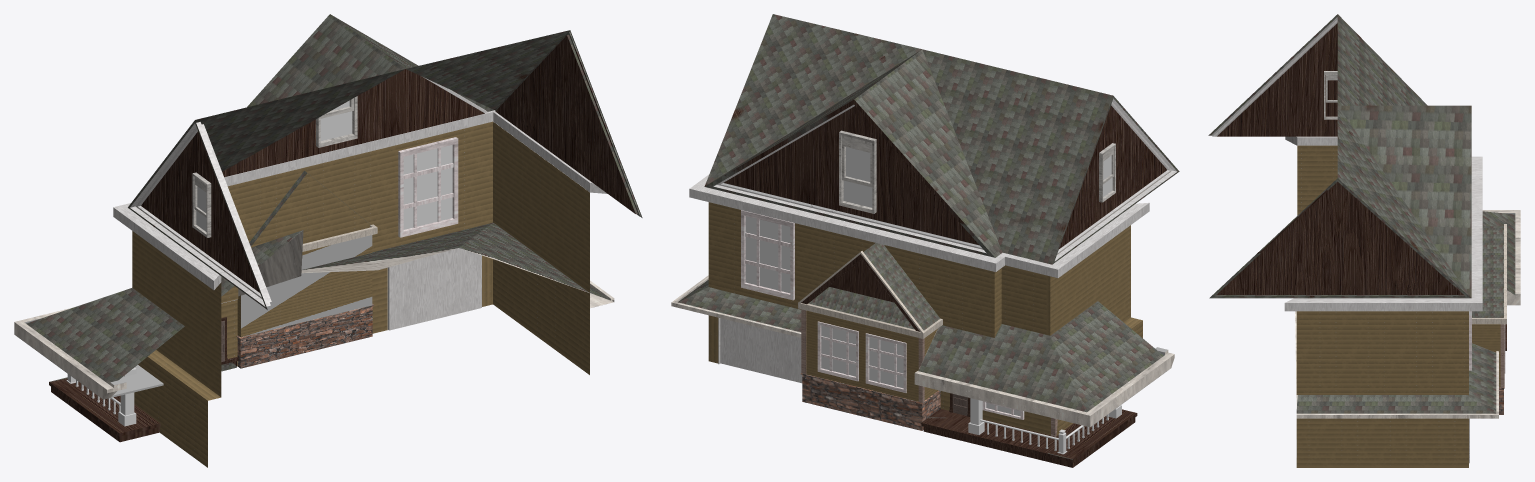
File: house.fbx
3 views of the same model, side by side, from view 1: azimuth 30°, elevation 25°; view 2: azimuth 150°, elevation 25°; view 3: azimuth 270°, elevation 25° (orthographic). The views are drawn at different scales.
Parts seen in each view (by area): view 1: Cube.003, Cube.007, Cube.016, Cube.006, Cube.008, Cube.011, Cube.010, Cube.002, Cube.004, Cube.012, Cube.005, Cube.009; view 2: Cube.003, Cube.006, Cube.016, Cube.007, Cube.008, Cube.005, Cube.011, Cube.010, Cube.002, Cube.004, Cube.012, Cube.009; view 3: Cube.003, Cube.016, Cube.007, Cube.006, Cube.005, Cube.008, Cube.004.
Part boxes in pixels (x1=…): Cube.003: x1=128, y1=14, x2=642, y2=309; Cube.007: x1=132, y1=121, x2=589, y2=400; Cube.016: x1=113, y1=78, x2=607, y2=467; Cube.006: x1=14, y1=222, x2=614, y2=399; Cube.008: x1=236, y1=235, x2=374, y2=368; Cube.011: x1=403, y1=145, x2=452, y2=229; Cube.010: x1=49, y1=356, x2=238, y2=442; Cube.002: x1=398, y1=137, x2=458, y2=237; Cube.004: x1=192, y1=96, x2=357, y2=237; Cube.012: x1=196, y1=100, x2=352, y2=231; Cube.005: x1=249, y1=171, x2=377, y2=251; Cube.009: x1=66, y1=367, x2=136, y2=426; Cube.003: x1=704, y1=14, x2=1179, y2=264; Cube.006: x1=671, y1=275, x2=1174, y2=427; Cube.016: x1=689, y1=98, x2=1177, y2=436; Cube.007: x1=708, y1=202, x2=1142, y2=337; Cube.008: x1=800, y1=303, x2=940, y2=430; Cube.005: x1=798, y1=243, x2=942, y2=338; Cube.011: x1=745, y1=216, x2=1020, y2=416; Cube.010: x1=921, y1=408, x2=1137, y2=467; Cube.002: x1=741, y1=210, x2=1024, y2=419; Cube.004: x1=839, y1=130, x2=1115, y2=213; Cube.012: x1=843, y1=147, x2=1112, y2=207; Cube.009: x1=968, y1=398, x2=1121, y2=454; Cube.003: x1=1208, y1=14, x2=1471, y2=298; Cube.016: x1=1212, y1=17, x2=1482, y2=467; Cube.007: x1=1296, y1=145, x2=1468, y2=395; Cube.006: x1=1295, y1=210, x2=1520, y2=418; Cube.005: x1=1472, y1=224, x2=1506, y2=324; Cube.008: x1=1472, y1=324, x2=1504, y2=414; Cube.004: x1=1324, y1=71, x2=1337, y2=119.
Size of the model in its own units: 1107 by 736 by 712.
